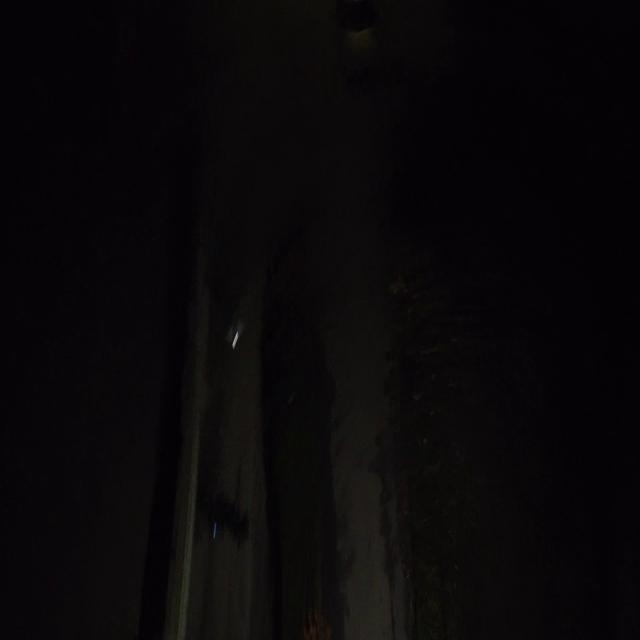vehicle: (210, 519, 220, 543)
